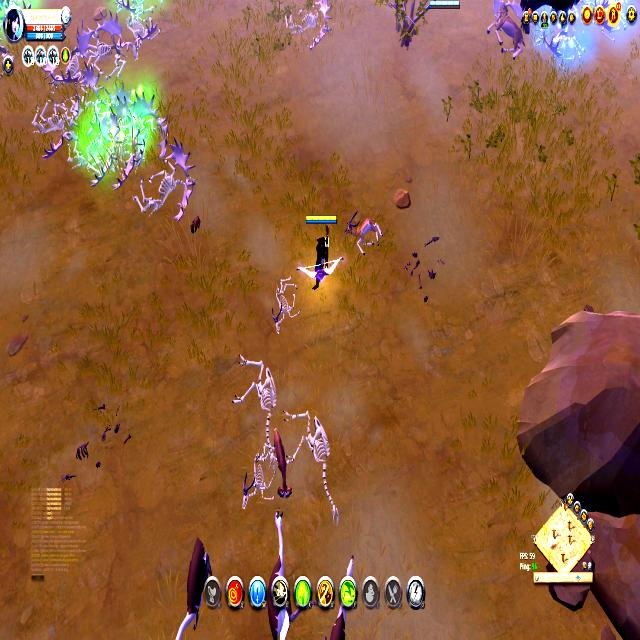mob: (261, 508, 303, 640), (485, 0, 529, 63), (345, 208, 384, 257)
ore: (173, 530, 216, 639), (327, 552, 356, 640), (270, 420, 294, 501)
red: (301, 210, 340, 290), (426, 0, 462, 12)
